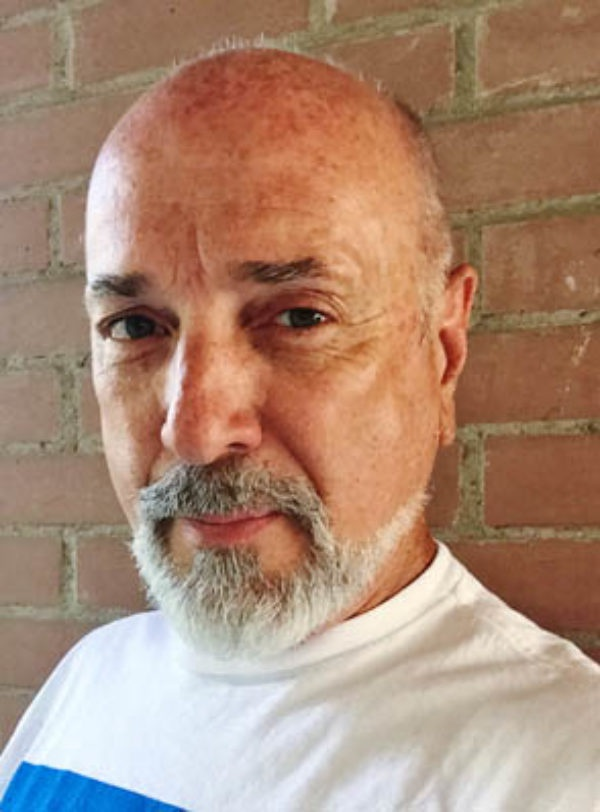bad: (33, 204, 418, 590)
